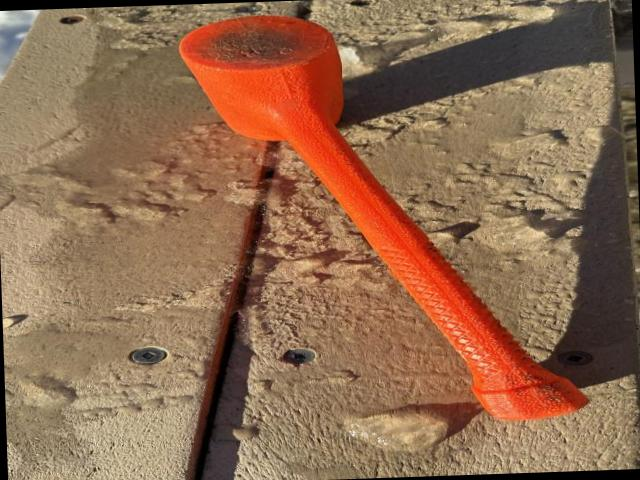hammer: (173, 1, 590, 433)
